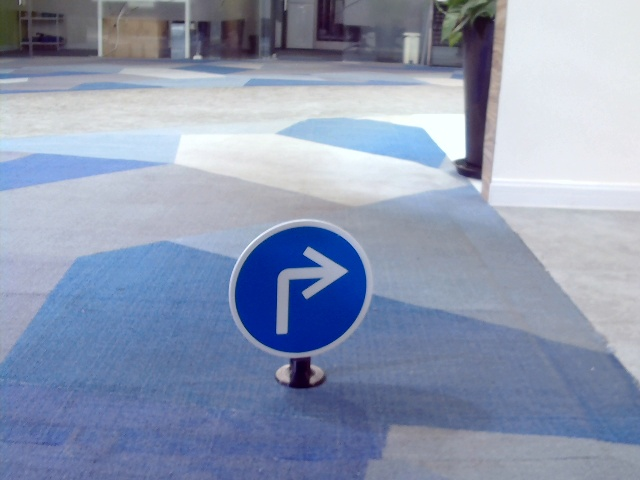turn_right: (268, 242, 346, 337)
